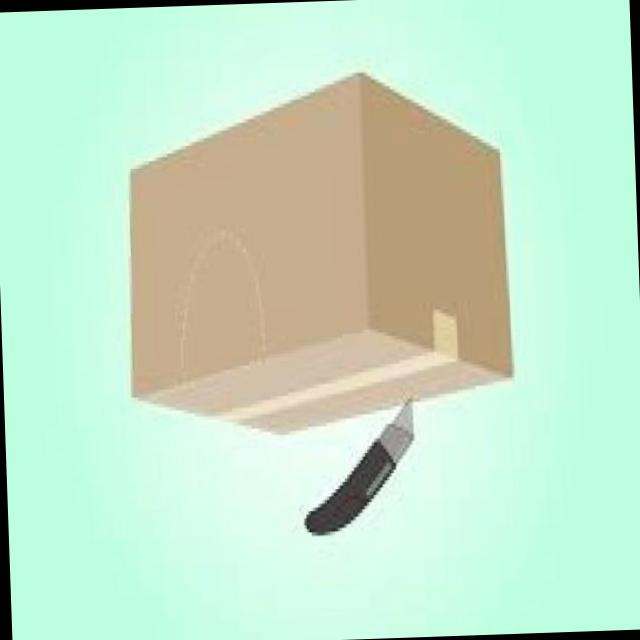cardboard paper: (131, 77, 511, 432)
